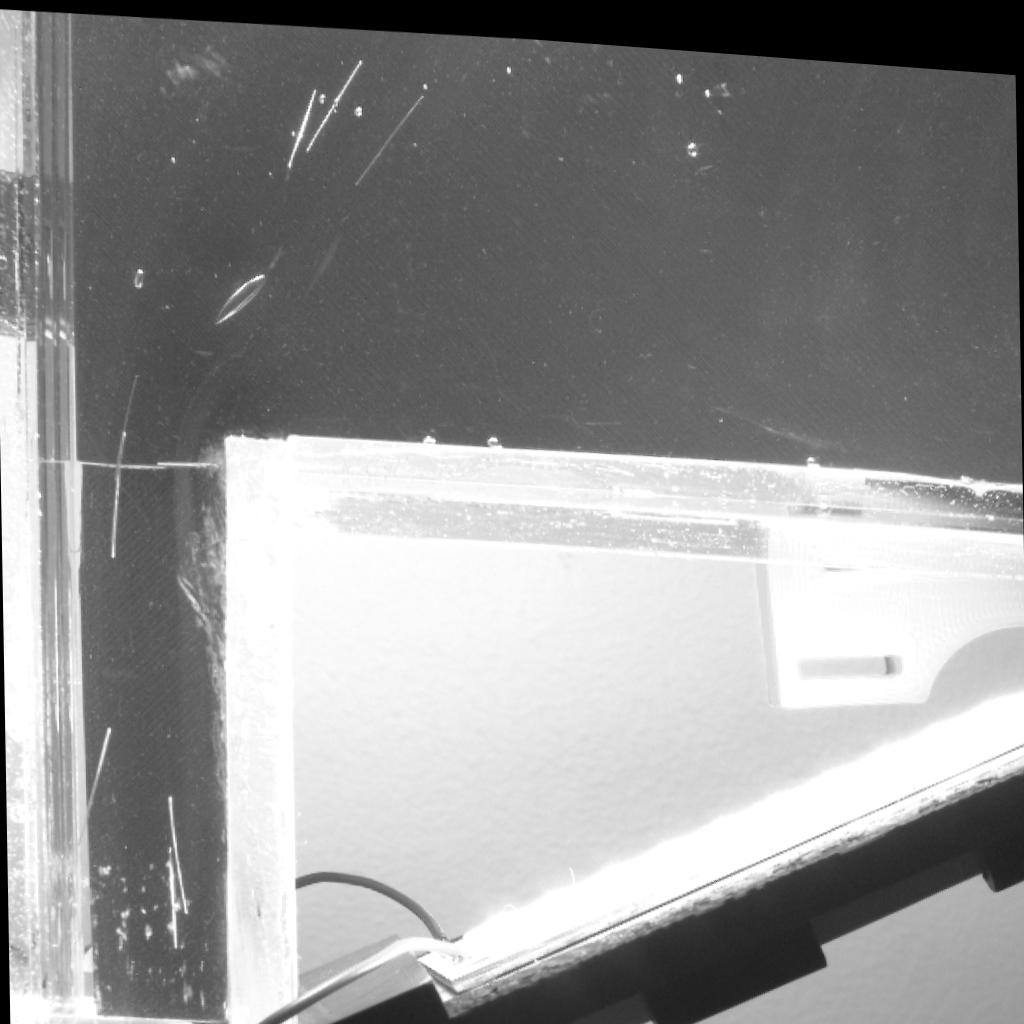Fiber: (301, 50, 362, 149), (350, 94, 413, 180), (70, 729, 111, 851), (163, 788, 188, 910), (286, 82, 322, 164), (106, 429, 128, 559), (112, 373, 136, 478), (165, 847, 177, 945)
